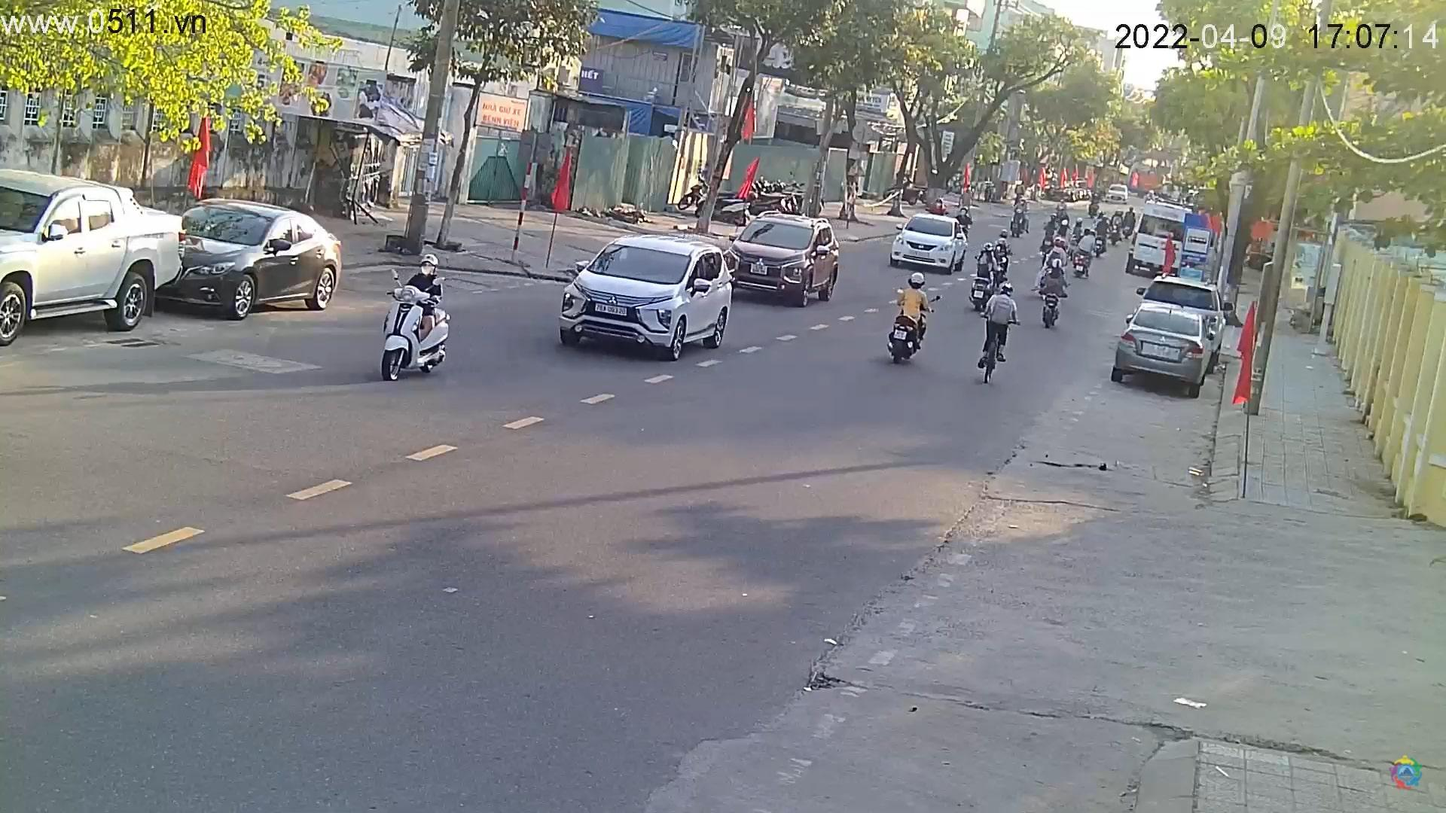car: (2, 165, 187, 350), (554, 234, 743, 359), (163, 201, 352, 322), (728, 213, 843, 305), (889, 214, 969, 274)
motorbike: (377, 254, 464, 378)
